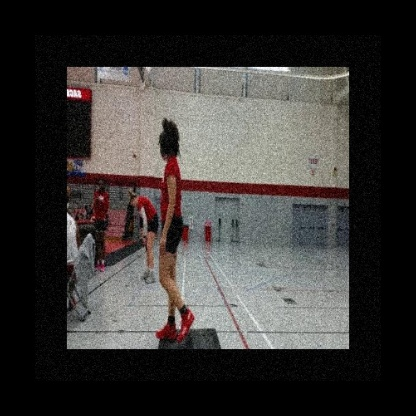lateral_flexion_left: (150, 117, 196, 349)
stance_width_broad: (154, 158, 192, 349)
